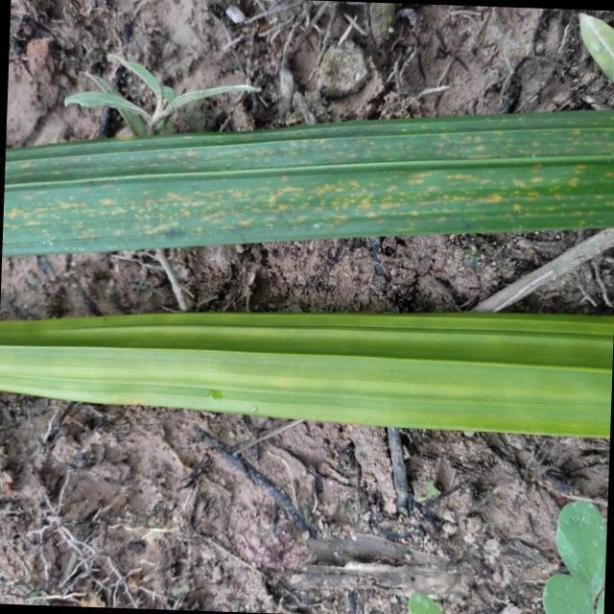nitrogen: (0, 107, 614, 256), (1, 305, 614, 441)
